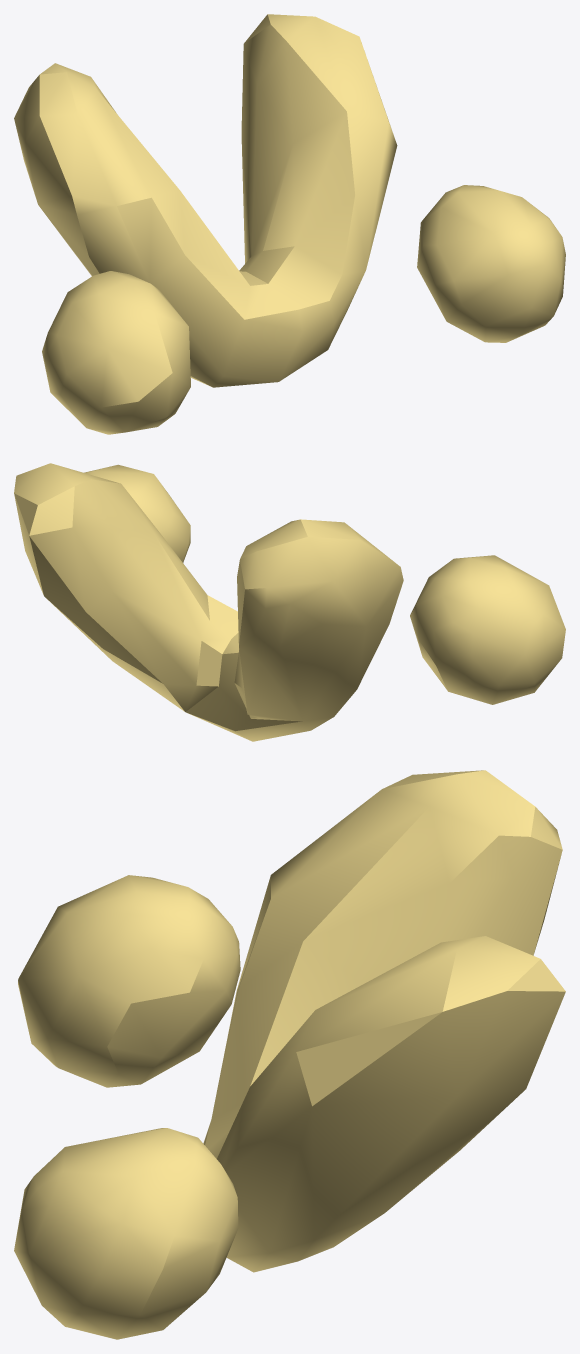
File: fma62032_fj1743.glb
3 renders of one model, top to bottom at view 1: azimuth 30°, elevation 25°; view 2: azimuth 150°, elevation 25°; view 3: azimuth 270°, elevation 25°, orthographic. The views are drawn at different scales.
Parts seen in each view (by area): view 1: FMA62032_FJ1743; view 2: FMA62032_FJ1743; view 3: FMA62032_FJ1743.
Boxes of the visible parts, <box> form: FMA62032_FJ1743: <box>14,14,565,434</box>; FMA62032_FJ1743: <box>14,463,565,741</box>; FMA62032_FJ1743: <box>14,770,565,1339</box>.
Size of the model in its own units: 0.00757 by 0.00414 by 0.00516.
